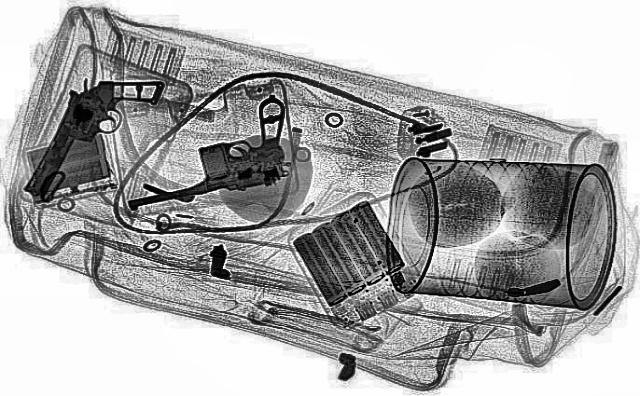Gun: (84, 94, 323, 209), (24, 70, 166, 208)
